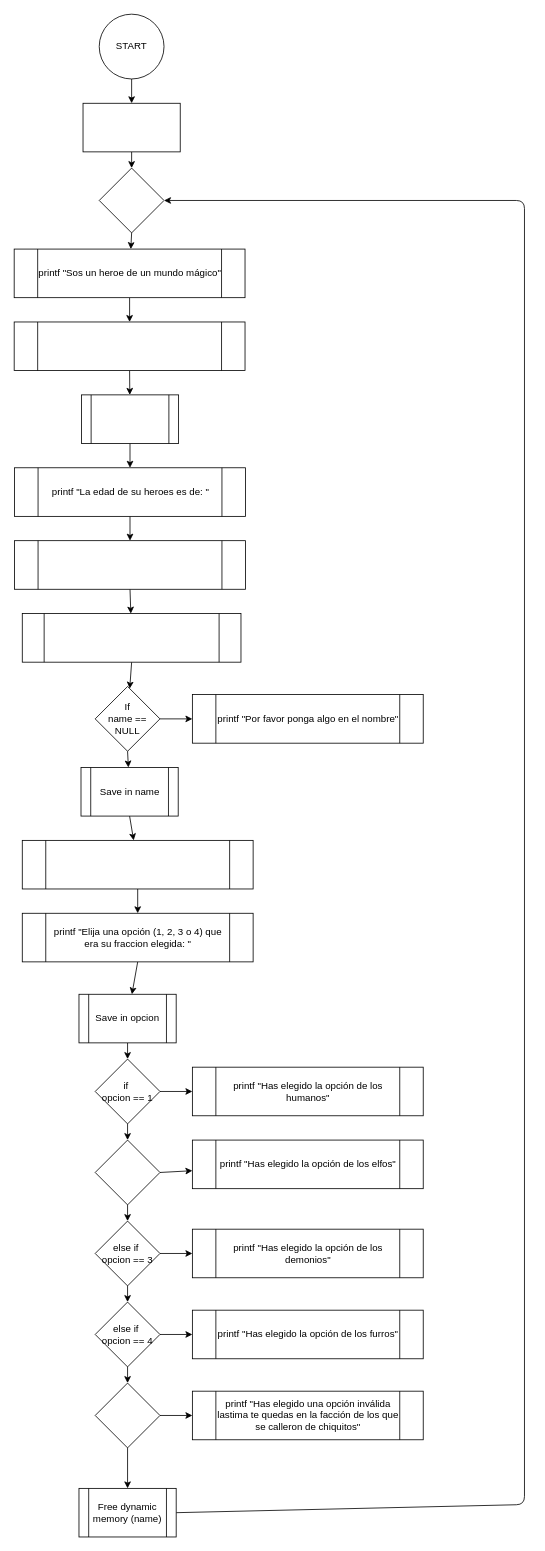
This 545x1551 diagram has some shape labels left out. Here are the shapes that lost their labels. From the top down, the centre of each, then its label:
(x=131, y=127): float health int age char *name
(x=131, y=200): while
(x=129, y=346): printf "Por favor ingrese la edad de su heroe"
(x=130, y=418): Save in age
(x=129, y=564): printf "Por favor nombra a tu heroe: "
(x=131, y=637): Create dynamic memory in name
(x=137, y=864): printf "Tu heroe se llama: "
(x=127, y=1172): else if opcion == 2
(x=127, y=1415): else
